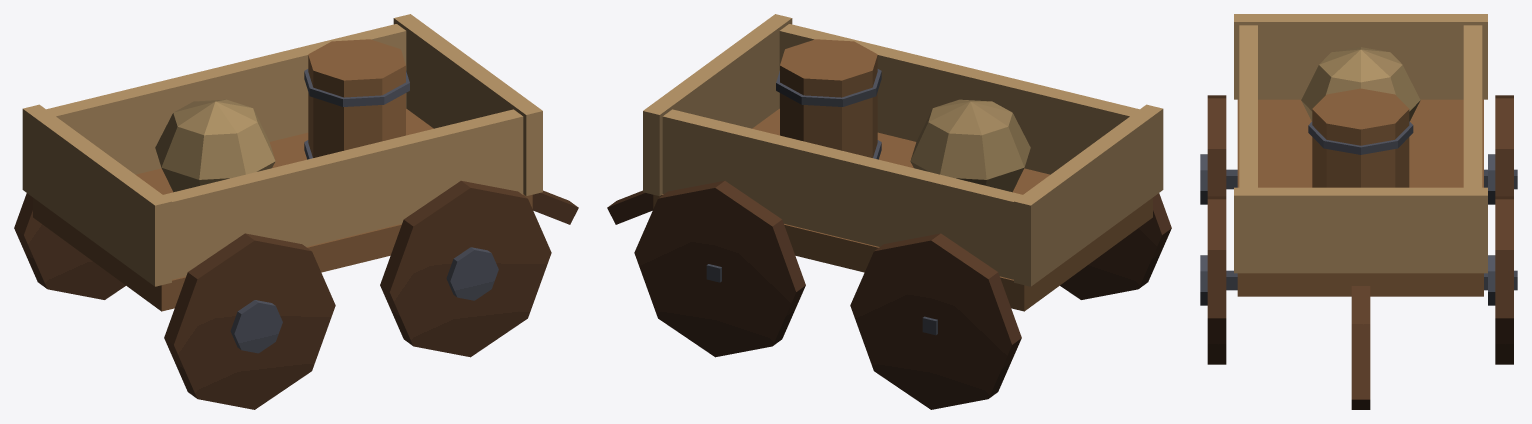
Rendered from wagon.glb.
3 renders of one model, left to right at view 1: azimuth 30°, elevation 25°; view 2: azimuth 150°, elevation 25°; view 3: azimuth 270°, elevation 25°, orthographic. The views are drawn at different scales.
Bounding box in the file's own units: 1.44 × 0.7 × 0.85.
1 material, 1 textured.
